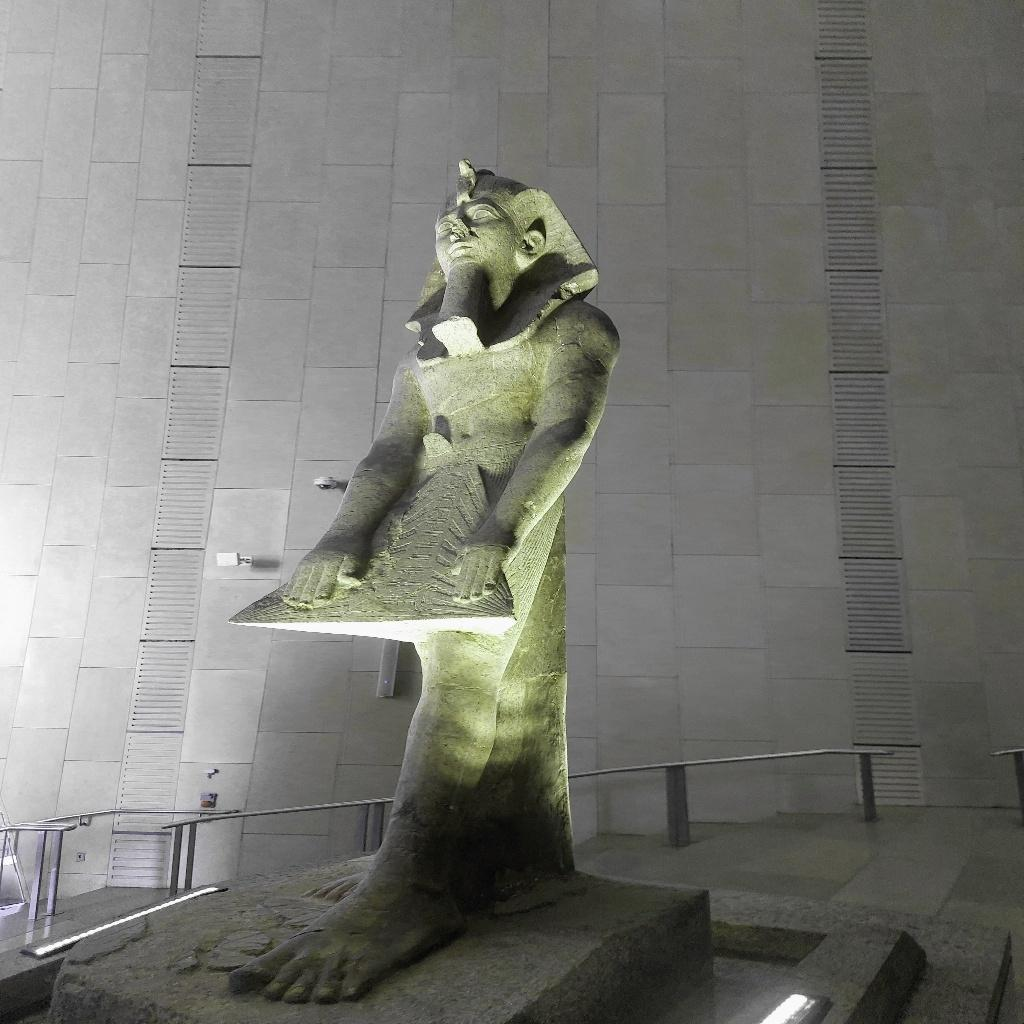Colossal Statue of Queen Hatshepsut: (216, 152, 628, 1005)
